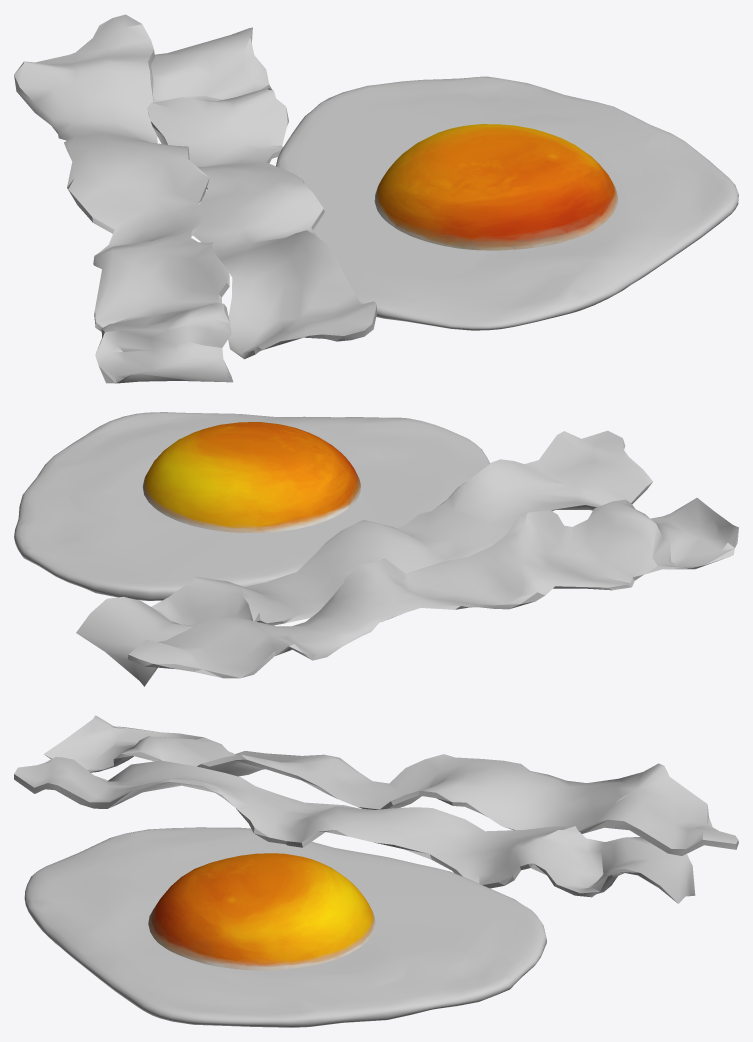
The picture shows the model from 3 angles, top to bottom: view 1: azimuth 30°, elevation 25°; view 2: azimuth 150°, elevation 25°; view 3: azimuth 270°, elevation 25°; orthographic projection. The views are drawn at different scales.
Visible parts, largest first — view 1: Group20421, Group56763, Group56764, Group54894; view 2: Group20421, Group56763, Group56764, Group54894; view 3: Group20421, Group56763, Group56764, Group54894.
Boxes of the visible parts, x1,y1,x2,y2 form: Group20421: (276, 76, 738, 330); Group56763: (14, 14, 233, 383); Group56764: (147, 27, 376, 359); Group54894: (374, 124, 617, 250); Group20421: (14, 412, 490, 600); Group56763: (127, 498, 738, 678); Group56764: (76, 430, 652, 686); Group54894: (142, 422, 360, 532); Group20421: (24, 827, 546, 1027); Group56763: (43, 715, 738, 855); Group56764: (14, 757, 695, 903); Group54894: (148, 853, 375, 970).
Size of the model in its own units: 170 by 18.71 by 170.
